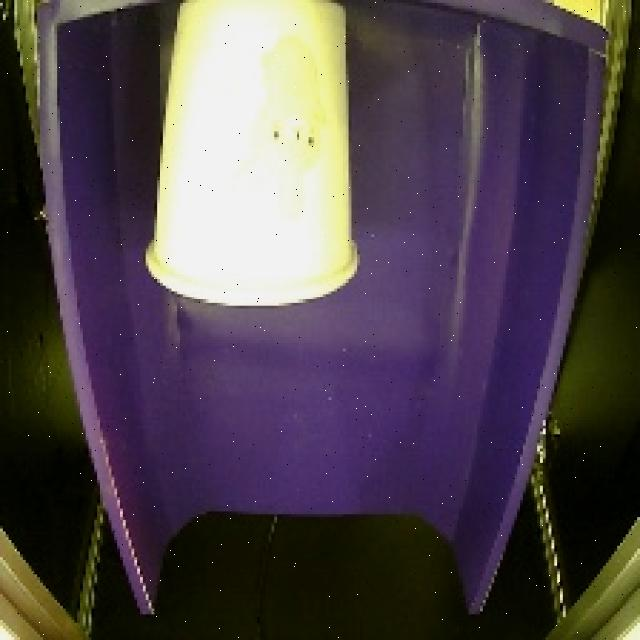cups: (125, 0, 378, 316)
